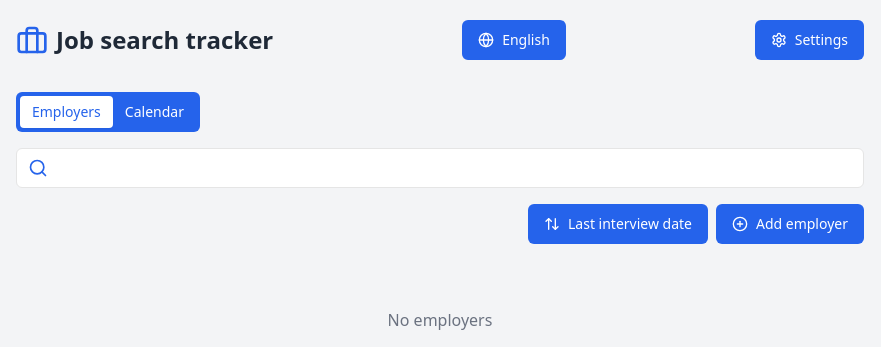
Test: Change language › should change language
Step 1. Click the button with test id "language-selector" → coordinates (514, 40), box [462,20,566,60]
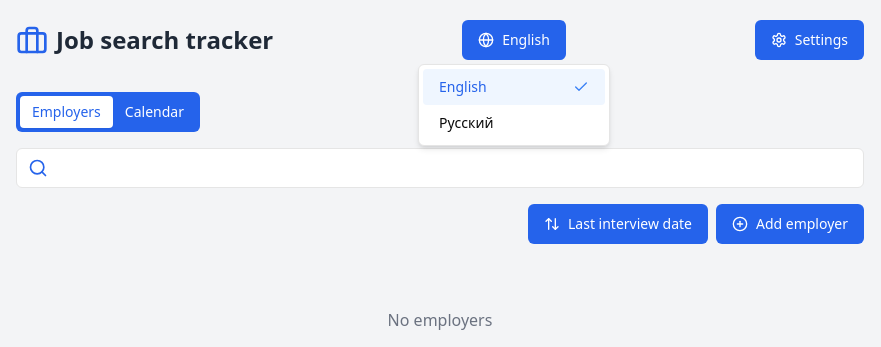
Step 2. Click the menu item with test id "language-selector-ru" → coordinates (467, 123), box [439,113,494,132]
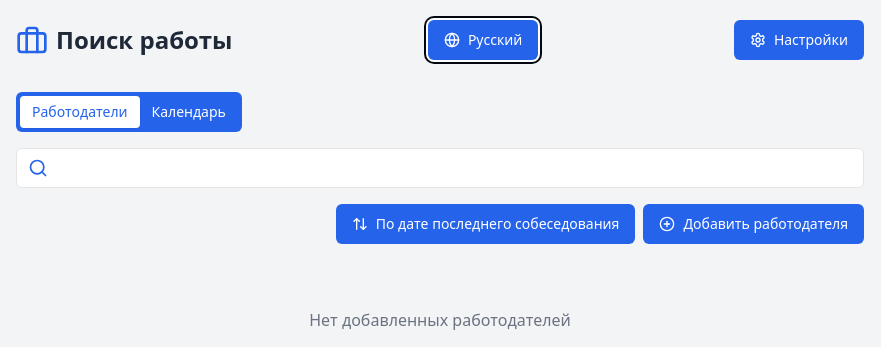
expect the heading "Поиск работы" is shown: met, box [56,24,232,56]
